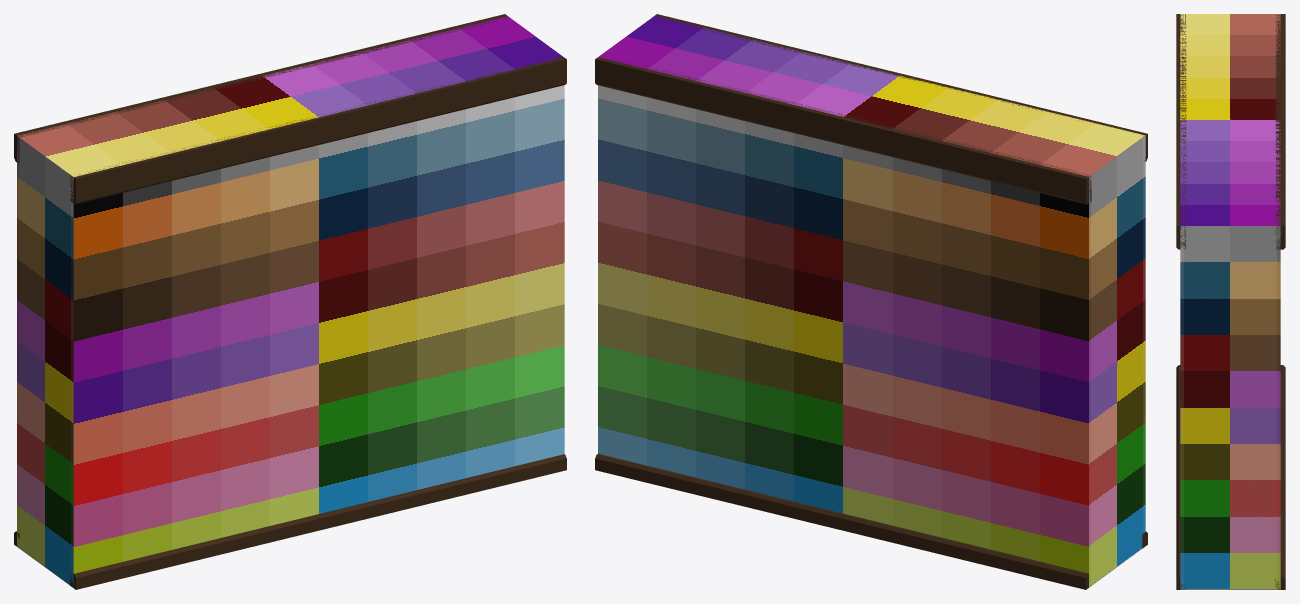
The model's file is Wall_Interior.fbx.
The picture shows the model from 3 angles, left to right: view 1: azimuth 30°, elevation 25°; view 2: azimuth 150°, elevation 25°; view 3: azimuth 270°, elevation 25°; orthographic projection. The views are drawn at different scales.
Parts seen in each view (by area): view 1: Cube, Cube.002, Cube.001; view 2: Cube, Cube.002, Cube.001; view 3: Cube, Cube.002, Cube.001.
Boxes of the visible parts, x1=… form: Cube: x1=17, y1=16, x2=564, y2=587; Cube.002: x1=14, y1=14, x2=566, y2=204; Cube.001: x1=14, y1=454, x2=566, y2=589; Cube: x1=598, y1=15, x2=1145, y2=587; Cube.002: x1=595, y1=14, x2=1147, y2=204; Cube.001: x1=595, y1=454, x2=1147, y2=589; Cube: x1=1180, y1=14, x2=1280, y2=589; Cube.002: x1=1176, y1=14, x2=1285, y2=249; Cube.001: x1=1176, y1=365, x2=1285, y2=589.
Bounding box in the file's own units: 500 × 400 × 109.
